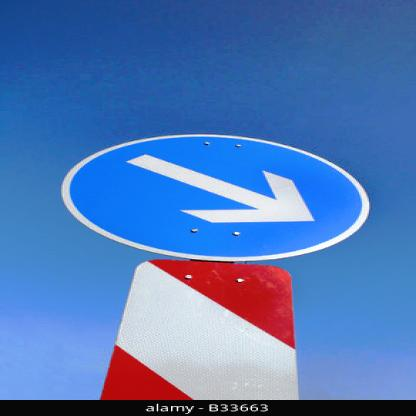Keep right: (58, 127, 380, 264)
